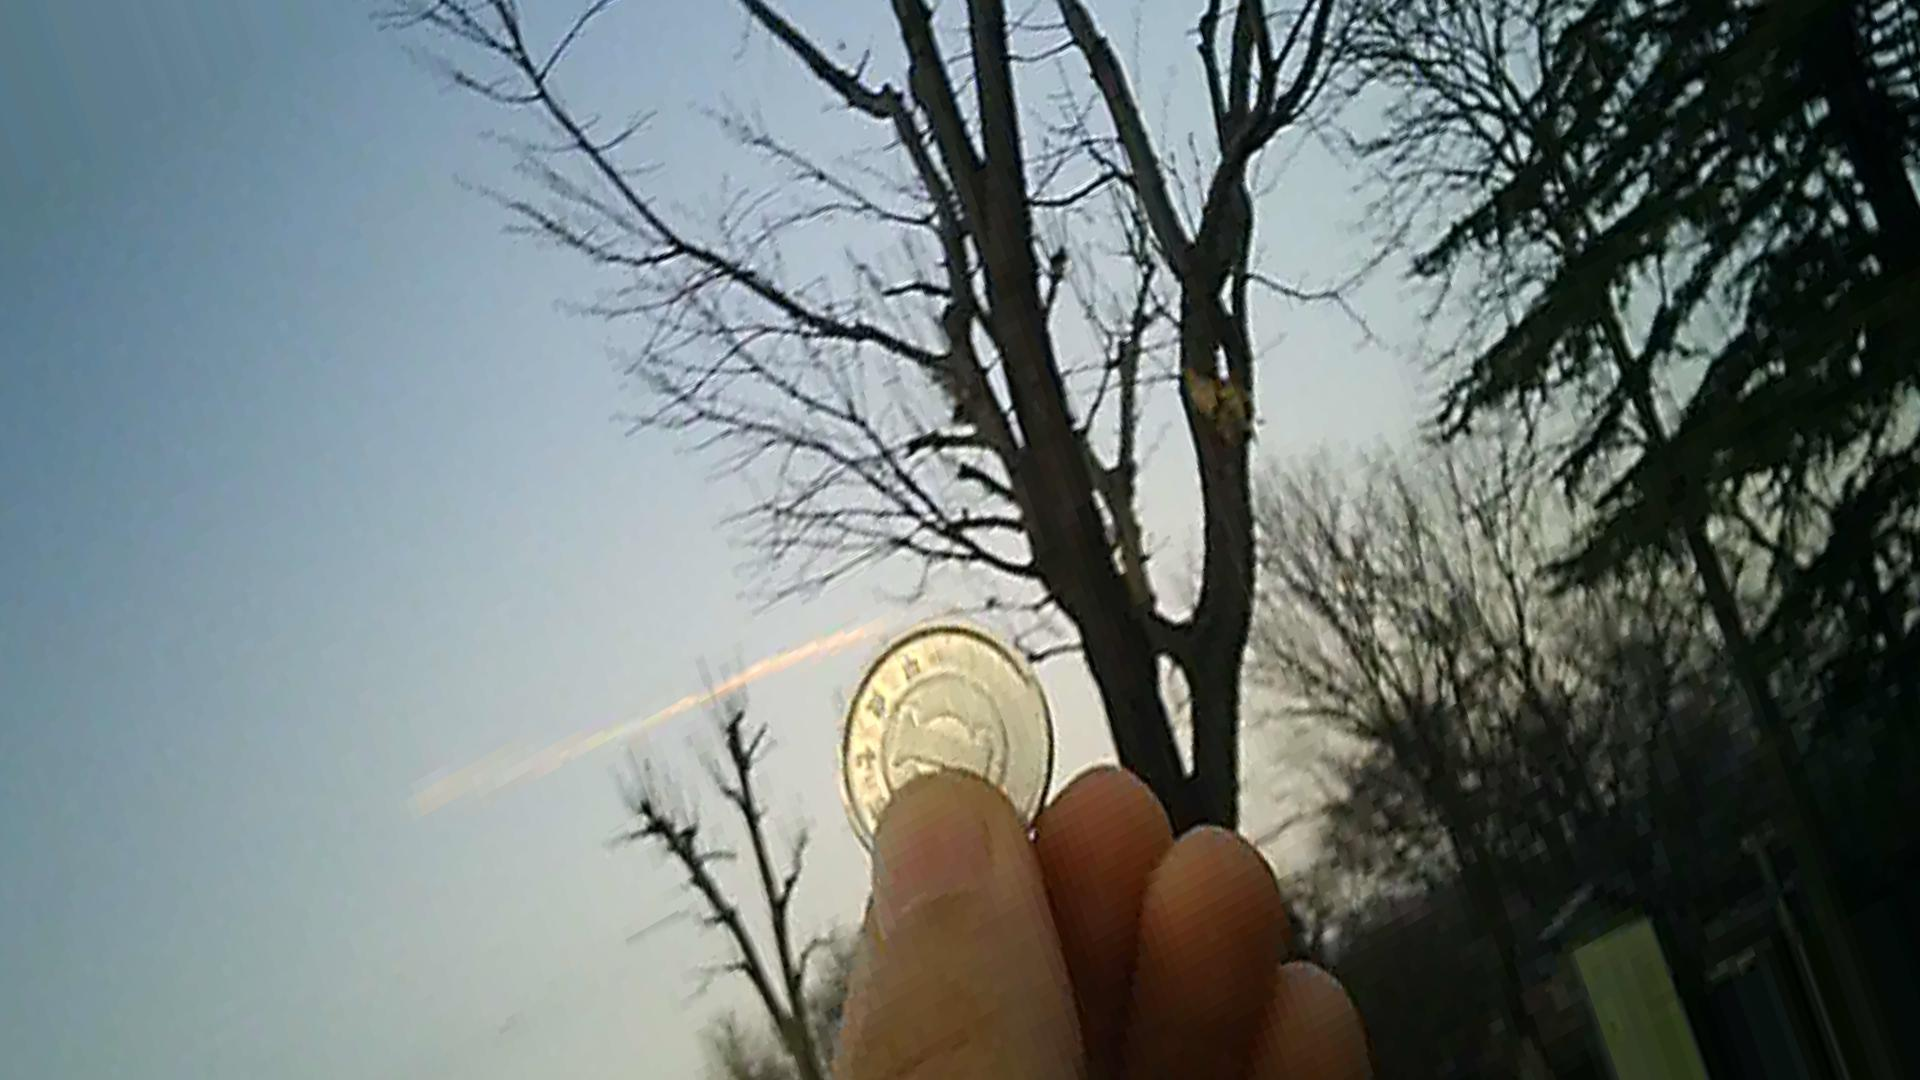1 Yen: (837, 622, 1073, 866)
